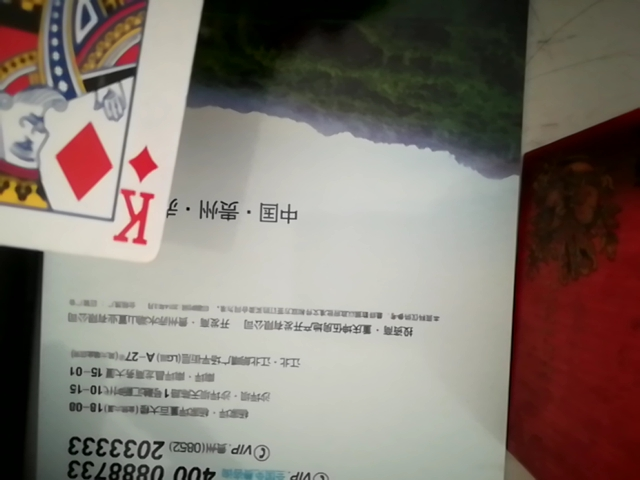fk k: (0, 0, 223, 262)
